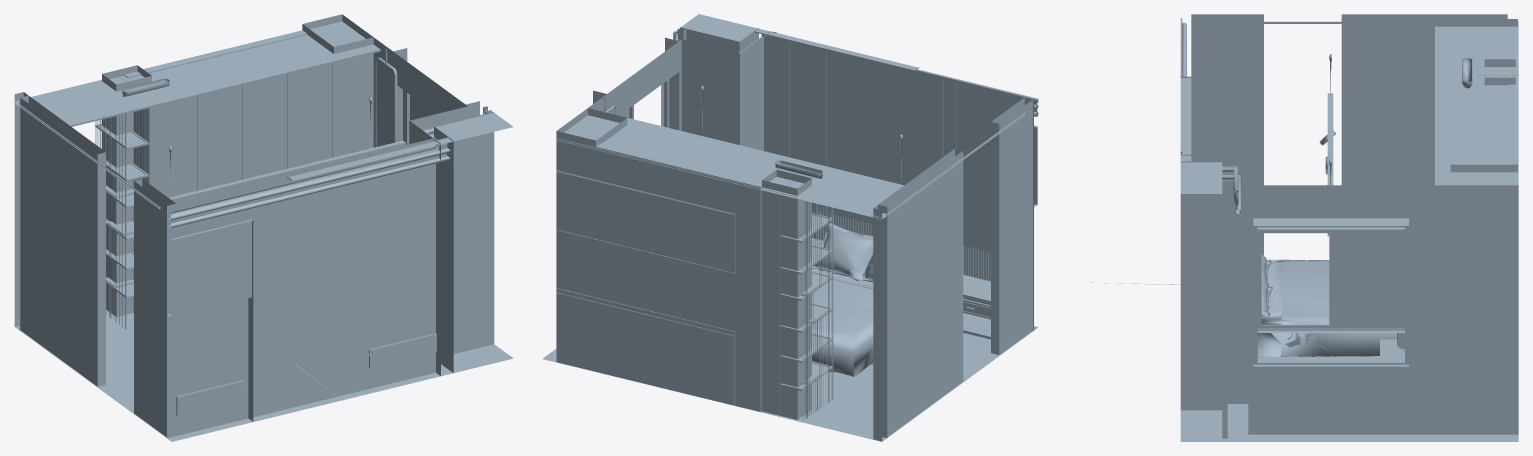
File: C-bedroom-wire.glb
The picture shows the model from 3 angles, left to right: view 1: azimuth 30°, elevation 25°; view 2: azimuth 150°, elevation 25°; view 3: azimuth 270°, elevation 25°; orthographic projection. The views are drawn at different scales.
Parts seen in each view (by area): view 1: SRC_0674_Group540, SRC_0395_Group265, SRC_0342_Group205, SRC_0448_Group324, SRC_1297_Mesh303, SRC_1141_Mesh161, SRC_1047_Group983, SRC_0385_Group256, SRC_0767_Group645, SRC_0291_Group146, SRC_0784_Group666, SRC_0788_Group670 (+22 smaller); view 2: SRC_0846_Group751, SRC_1141_Mesh161, SRC_0395_Group265, SRC_0408_Group282, SRC_0410_Group284, SRC_1297_Mesh303, SRC_1047_Group983, SRC_0448_Group324, SRC_0291_Group146, SRC_0767_Group645, SRC_0385_Group256, BED_SOURCE_104_Defintion1 (+11 smaller); view 3: SRC_0724_Group599, SRC_0395_Group265, SRC_0448_Group324, SRC_1297_Mesh303, SRC_0735_Group610, SRC_1047_Group983, SRC_0767_Group645, BED_SOURCE_104_Defintion1, SRC_0726_Group601, SRC_0728_Group604, SRC_0385_Group256, SRC_0732_Group608 (+10 smaller).
Boxes of the visible parts, x1=… form: SRC_0674_Group540: x1=167, y1=140, x2=440, y2=440; SRC_0395_Group265: x1=20, y1=95, x2=105, y2=386; SRC_0342_Group205: x1=167, y1=219, x2=253, y2=441; SRC_0448_Group324: x1=409, y1=101, x2=494, y2=375; SRC_1297_Mesh303: x1=14, y1=21, x2=380, y2=209; SRC_1141_Mesh161: x1=174, y1=138, x2=435, y2=324; SRC_1047_Group983: x1=134, y1=179, x2=176, y2=437; SRC_0385_Group256: x1=17, y1=309, x2=513, y2=441; SRC_0767_Group645: x1=302, y1=14, x2=373, y2=157; SRC_0291_Group146: x1=102, y1=65, x2=151, y2=316; SRC_0784_Group666: x1=201, y1=85, x2=242, y2=189; SRC_0788_Group670: x1=290, y1=63, x2=331, y2=167; SRC_0846_Group751: x1=596, y1=143, x2=775, y2=414; SRC_1141_Mesh161: x1=764, y1=36, x2=1021, y2=252; SRC_0395_Group265: x1=878, y1=148, x2=963, y2=437; SRC_0408_Group282: x1=556, y1=292, x2=733, y2=405; SRC_0410_Group284: x1=556, y1=171, x2=735, y2=273; SRC_1297_Mesh303: x1=556, y1=112, x2=1026, y2=219; SRC_1047_Group983: x1=991, y1=97, x2=1032, y2=354; SRC_0448_Group324: x1=665, y1=27, x2=770, y2=150; SRC_0291_Group146: x1=762, y1=169, x2=811, y2=419; SRC_0767_Group645: x1=556, y1=108, x2=627, y2=371; SRC_0385_Group256: x1=542, y1=326, x2=1038, y2=441; BED_SOURCE_104_Defintion1: x1=812, y1=268, x2=873, y2=376; SRC_0724_Group599: x1=1409, y1=185, x2=1518, y2=441; SRC_0395_Group265: x1=1341, y1=14, x2=1507, y2=185; SRC_0448_Group324: x1=1180, y1=154, x2=1253, y2=441; SRC_1297_Mesh303: x1=1264, y1=21, x2=1518, y2=194; SRC_0735_Group610: x1=1253, y1=359, x2=1408, y2=441; SRC_1047_Group983: x1=1191, y1=14, x2=1263, y2=255; SRC_0767_Group645: x1=1450, y1=164, x2=1517, y2=434; BED_SOURCE_104_Defintion1: x1=1257, y1=259, x2=1396, y2=356; SRC_0726_Group601: x1=1253, y1=185, x2=1408, y2=225; SRC_0728_Group604: x1=1333, y1=233, x2=1400, y2=324; SRC_0385_Group256: x1=1180, y1=356, x2=1518, y2=441; SRC_0732_Group608: x1=1253, y1=223, x2=1408, y2=366.
Bounding box in the file's own units: 4.08 × 2.69 × 4.35.
